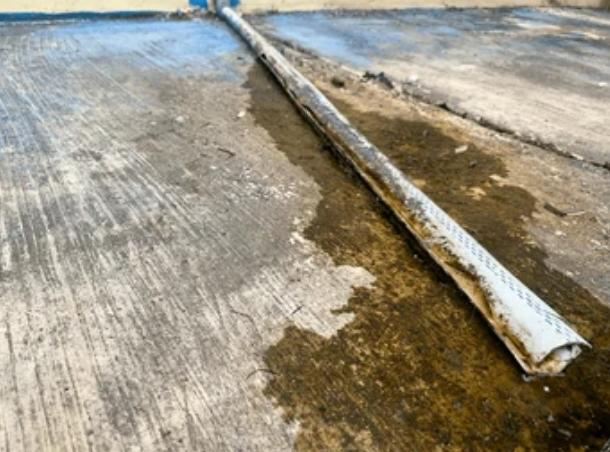water accumulation: (242, 57, 610, 452)
